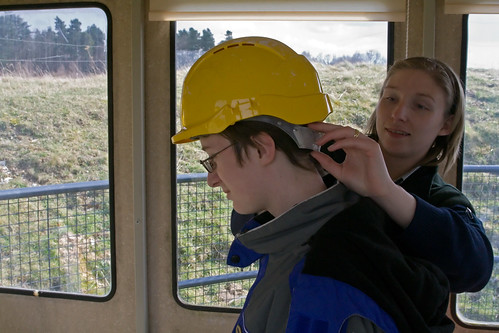person hardhat: (152, 33, 450, 333)
